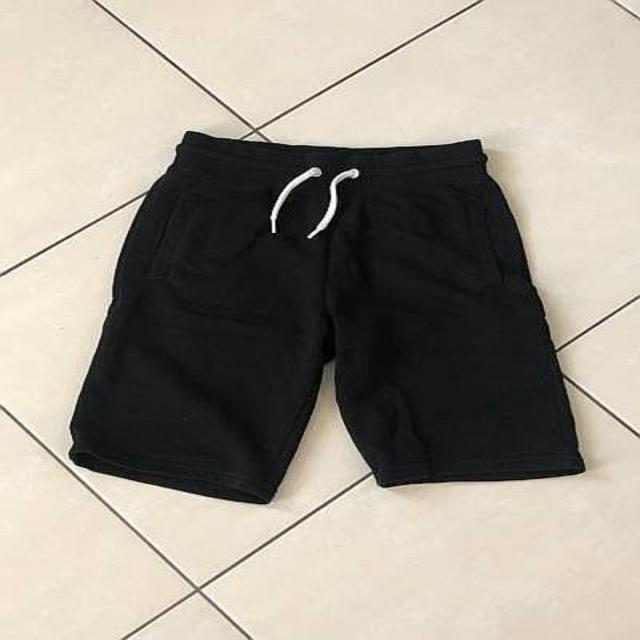SHORT: (48, 120, 602, 514)
